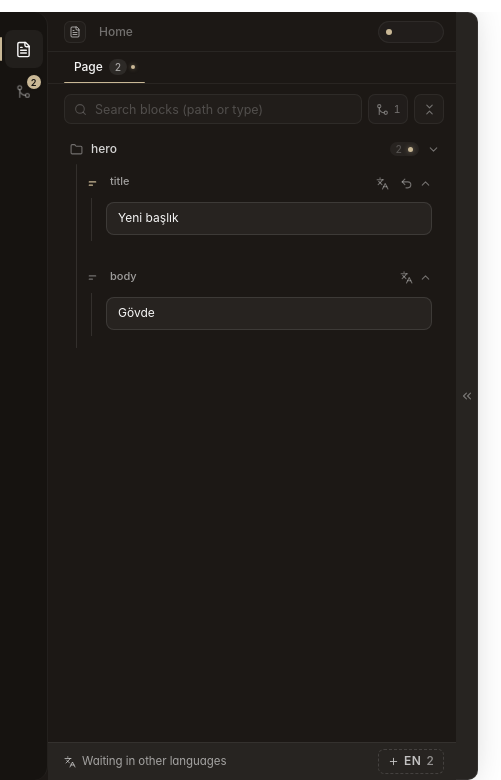
Test: a row's other languages › undoes the row in every language written from it
The width and height of the screenshot is (501, 780).
Check: the element "Waiting in other languages" is shown, box [48,742,460,779]
Click the button named "Edit hero.title in the other languages": (382, 183) [376,176,388,190]
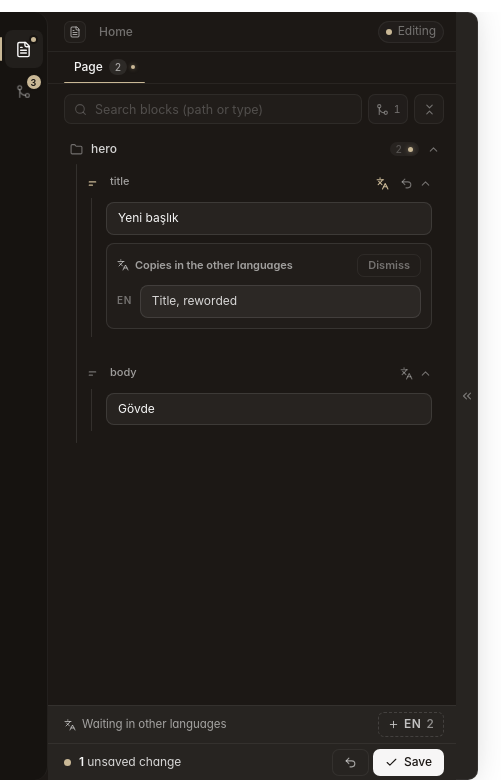
Replace the text in the field below "Copies in the other languages" with "Title, rewritten here": (280, 301) [140,285,421,318]
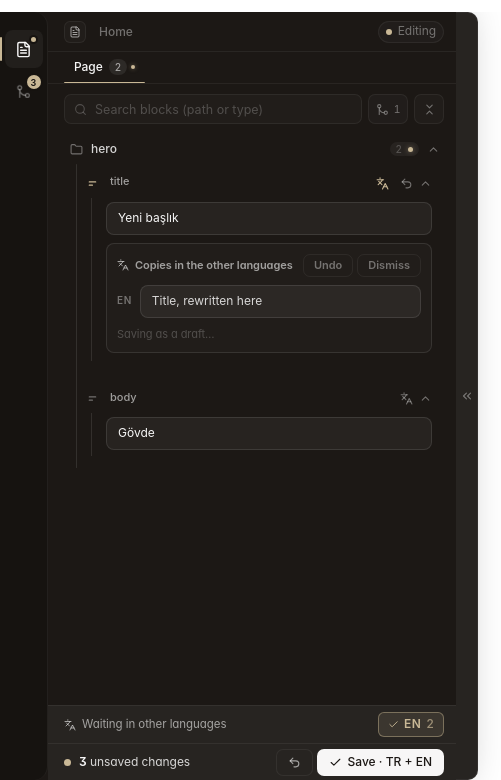
Click the button named "Undo this block's changes": (406, 183) [400,176,412,190]
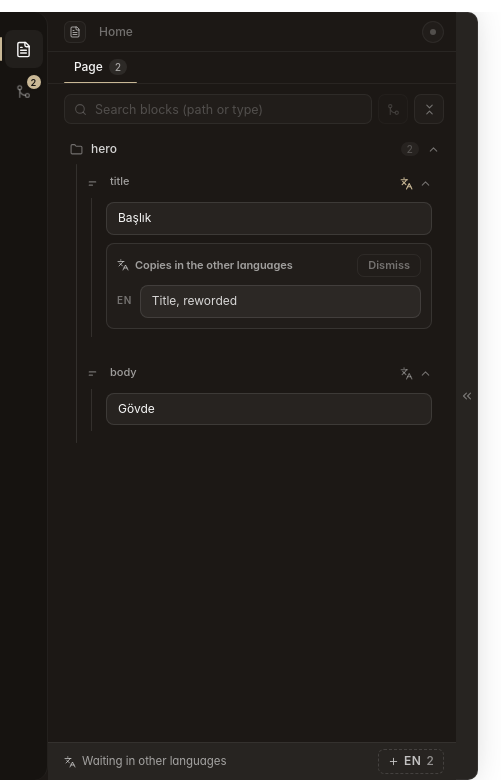
Check: the field below "Copies in the other languages" holds "Title, reworded", box [140,285,421,318]
